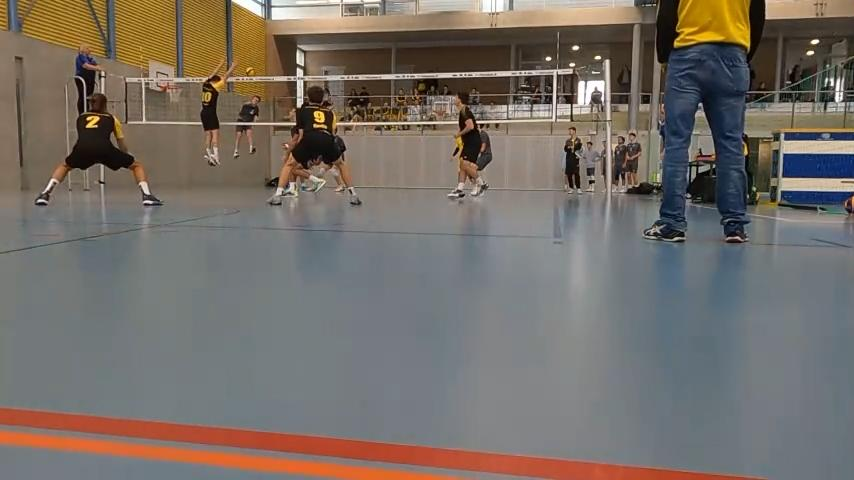attacco: (233, 90, 262, 162)
muro: (195, 59, 241, 167)
